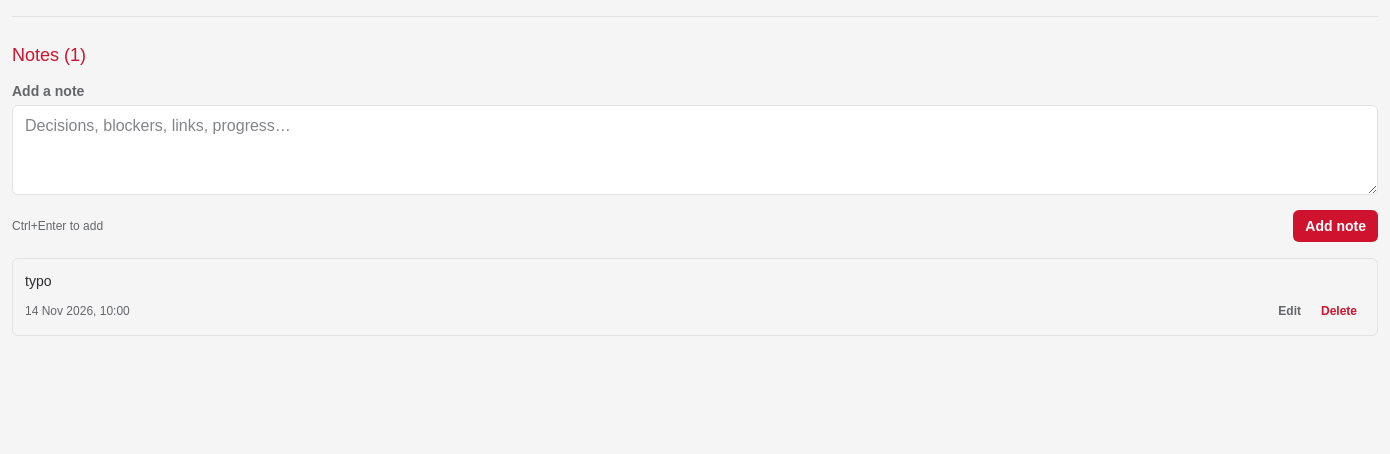
it: NotesSection › edits a note and marks it as edited
The width and height of the screenshot is (1390, 454).
Click the button "Edit": (1290, 311) [1270,299,1309,323]
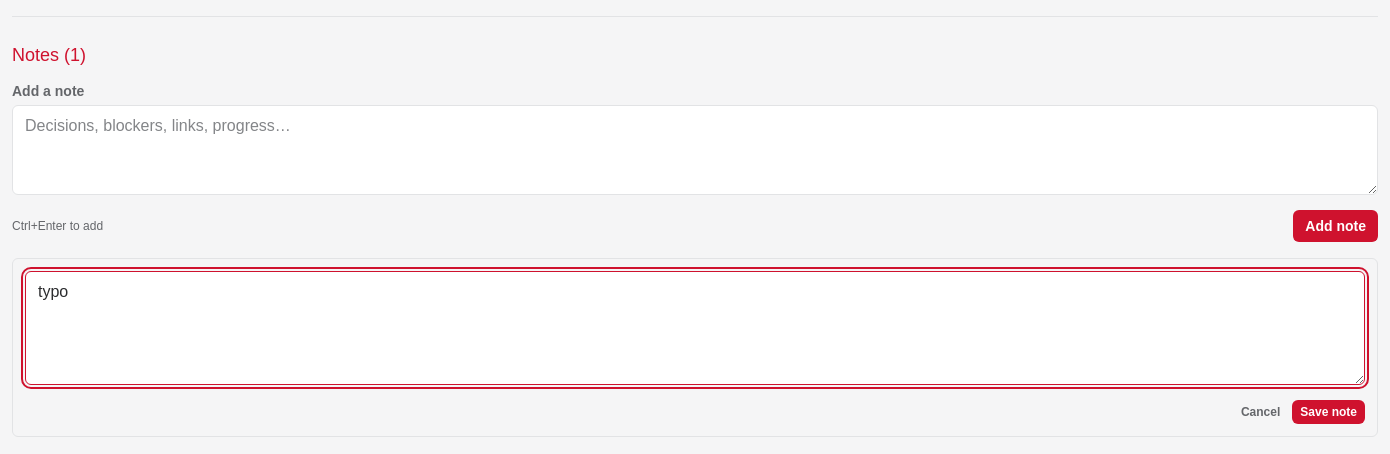
Now the text box named "Edit note" holds "typo"
Replace the text in the text box named "Edit note" with "fixed": (695, 328) [25,271,1365,385]
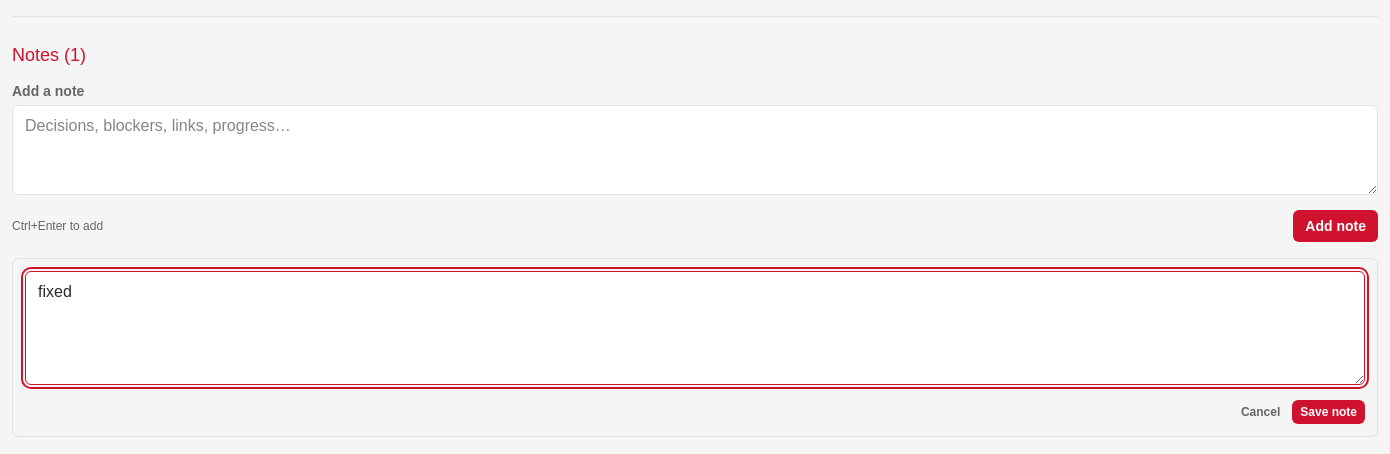
Click the button "Save note": (1329, 412) [1292,400,1365,424]
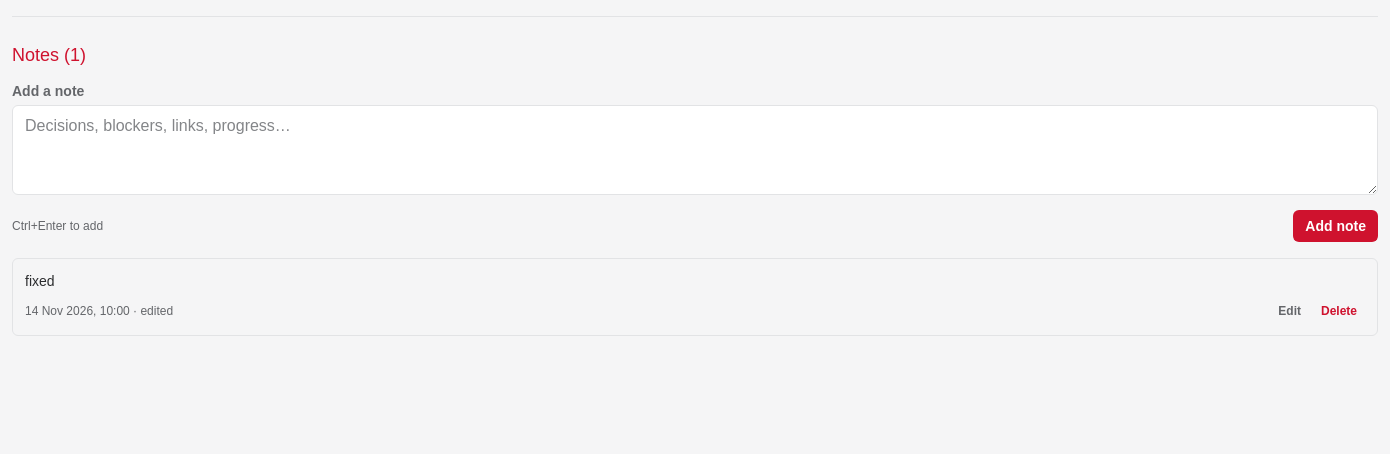
Now the text "fixed" is shown, box [25,273,55,289]
Now the text "14 Nov 2026, 10:00 · edited" is shown, box [25,303,173,319]
